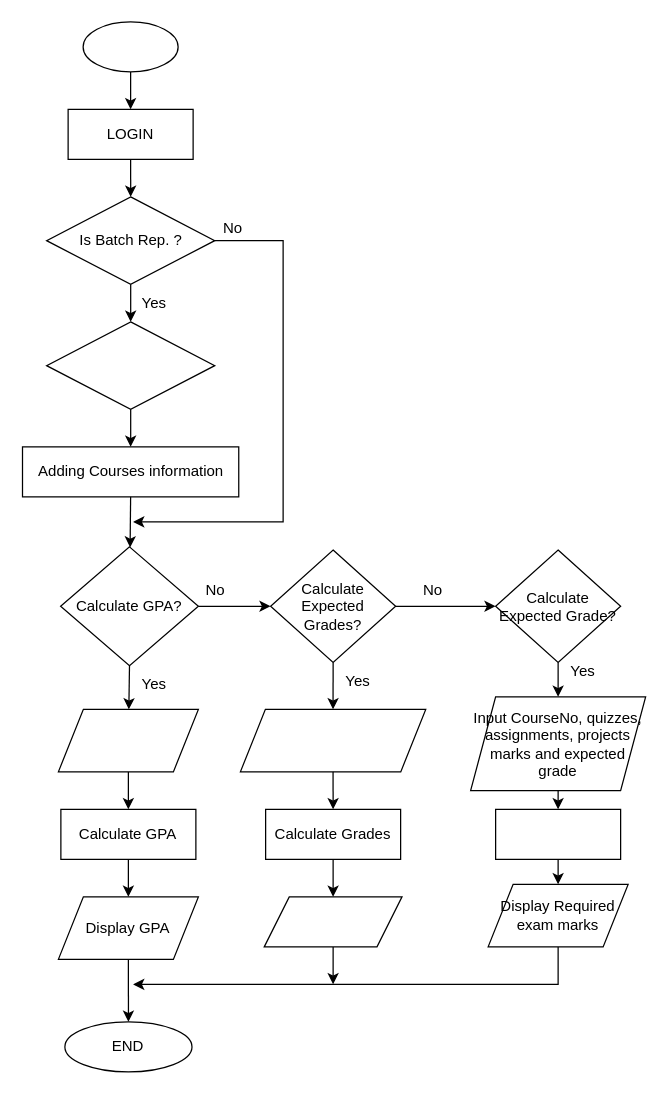
This 668x1094 diagram has some shape labels left out. The centre of each missing label's shape, as x and y in pixels:
"Add grades" belongs at point (127, 740).
"Add New Courses?" belongs at point (130, 365).
"Calculate required exam marks" belongs at point (557, 833).
"Display Grades" belongs at point (332, 921).
"Input Expected GPA" belongs at point (332, 740).
"Start" belongs at point (130, 46).
